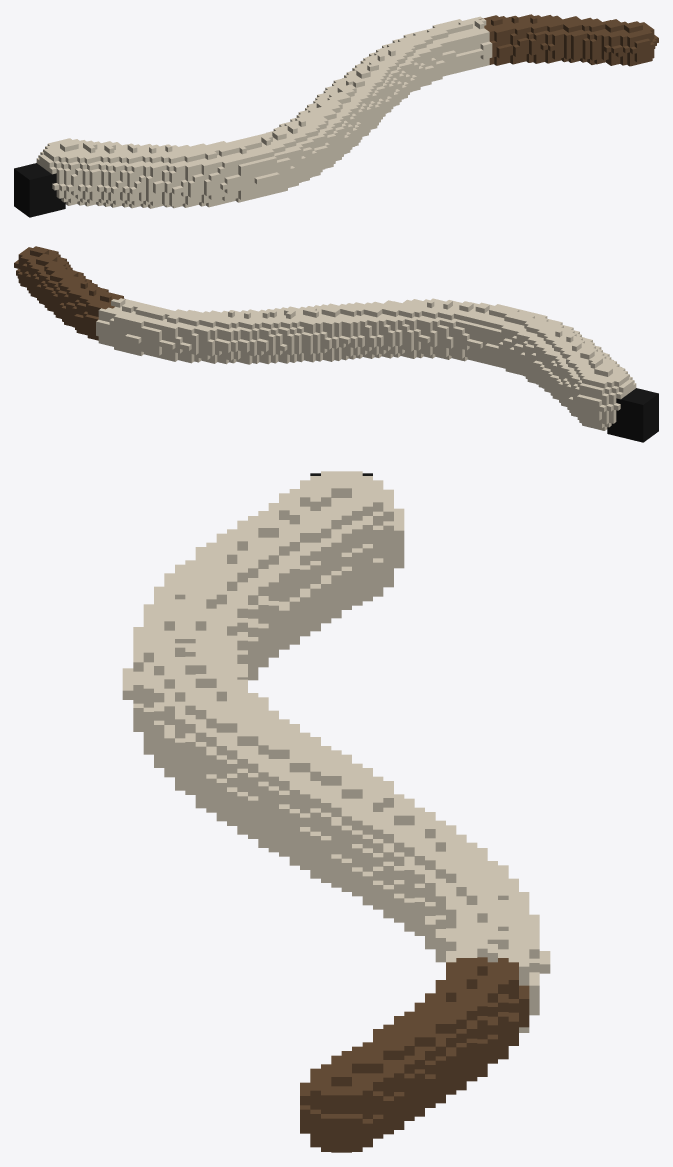
Rendered from faux_fur_cat_tail.glb.
3 renders of one model, top to bottom at view 1: azimuth 30°, elevation 25°; view 2: azimuth 150°, elevation 25°; view 3: azimuth 270°, elevation 25°, orthographic. The views are drawn at different scales.
Visible parts, largest first — view 1: faux_fur_cat_tail:compound; view 2: faux_fur_cat_tail:compound; view 3: faux_fur_cat_tail:compound.
Part boxes in pixels (x1,y1,x2,y2): faux_fur_cat_tail:compound: [14, 14, 658, 217]; faux_fur_cat_tail:compound: [14, 246, 658, 442]; faux_fur_cat_tail:compound: [122, 471, 550, 1152].
Bounding box in the file's own units: 0.56 × 0.048 × 0.164.
